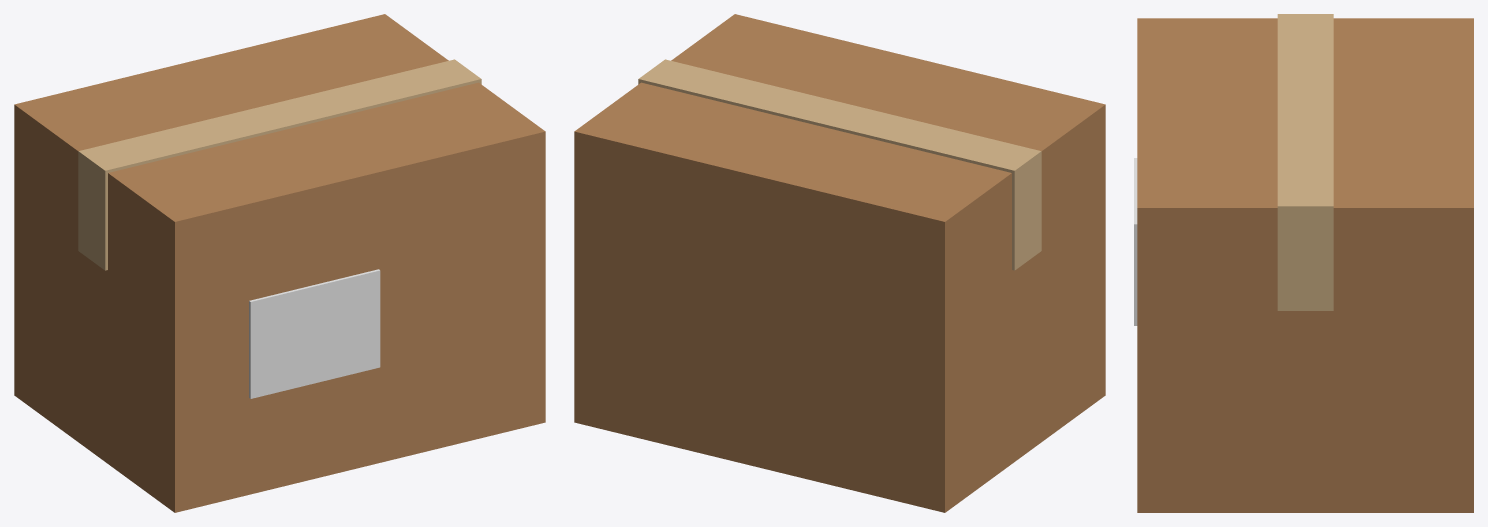
Rendered from caixa.glb.
3 views of the same model, side by side, from view 1: azimuth 30°, elevation 25°; view 2: azimuth 150°, elevation 25°; view 3: azimuth 270°, elevation 25° (orthographic). The views are drawn at different scales.
Visible parts, largest first — view 1: caixa; view 2: caixa; view 3: caixa.
Part boxes in pixels (left/top/right/bottom): caixa: left=14, top=14, right=545, bottom=512; caixa: left=574, top=14, right=1105, bottom=512; caixa: left=1134, top=14, right=1473, bottom=512.
Bounding box in the file's own units: 0.406 × 0.303 × 0.303.
